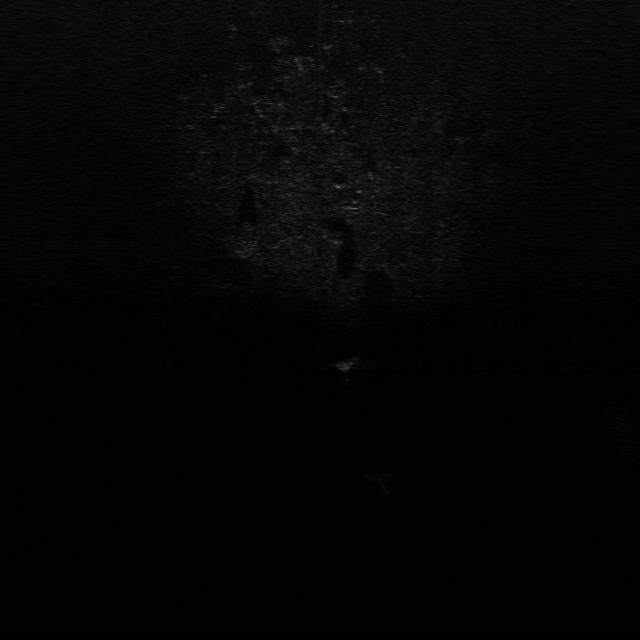cube: (362, 470, 396, 484)
square cage: (332, 352, 361, 373)
